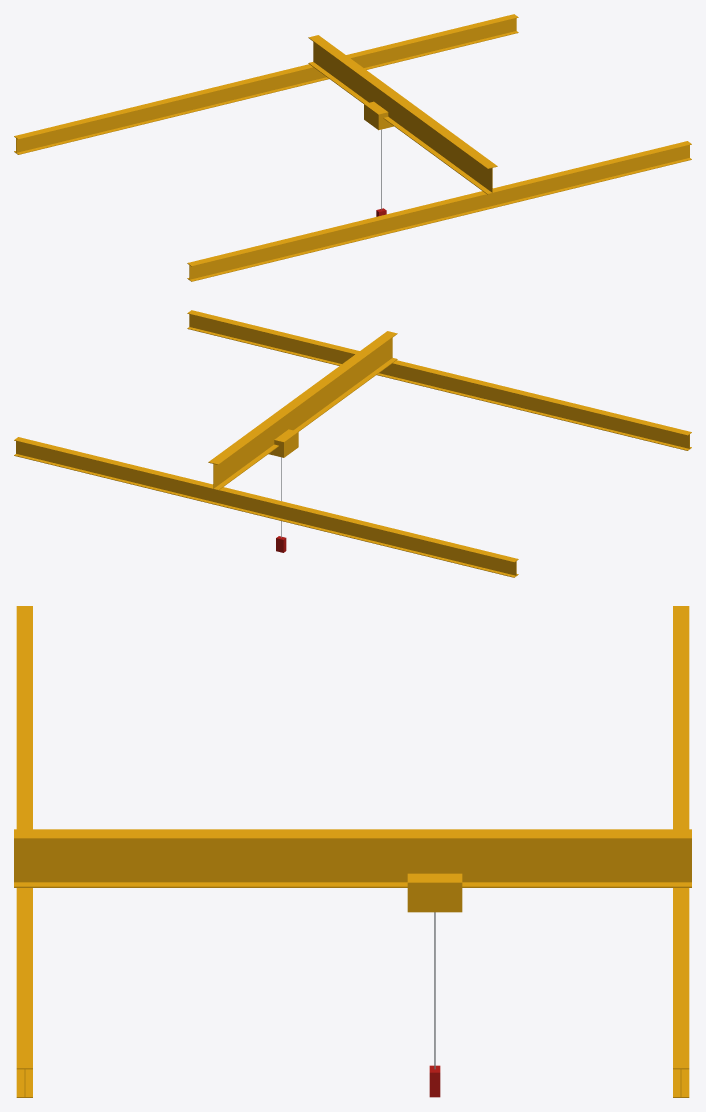
File: industrial.handling.gantry_crane.glb
3 views of the same model, one above another, from view 1: azimuth 30°, elevation 25°; view 2: azimuth 150°, elevation 25°; view 3: azimuth 270°, elevation 25° (orthographic). The views are drawn at different scales.
Visible parts, largest first — view 1: main__plant_yellow; view 2: main__plant_yellow; view 3: main__plant_yellow.
Boxes of the visible parts, x1=… form: main__plant_yellow: x1=14, y1=14, x2=691, y2=281; main__plant_yellow: x1=14, y1=310, x2=691, y2=577; main__plant_yellow: x1=14, y1=606, x2=691, y2=1097.
Bounding box in the file's own units: 20 × 5.25 × 12.4.
